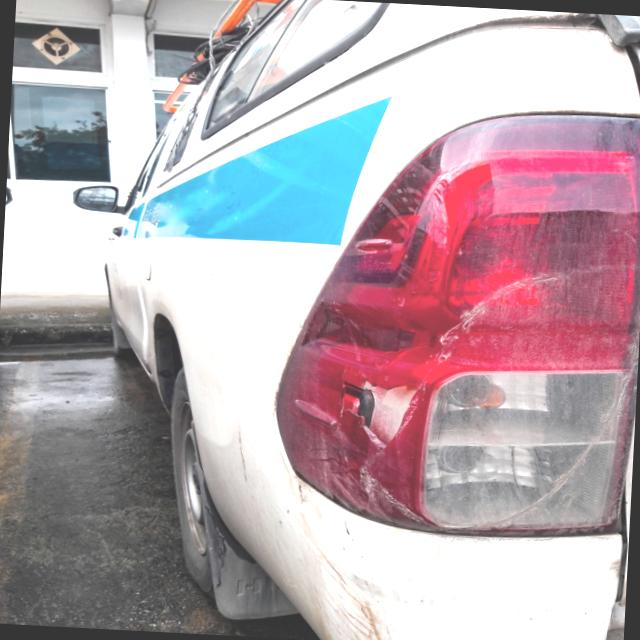Phare abime: (323, 369, 443, 493)
